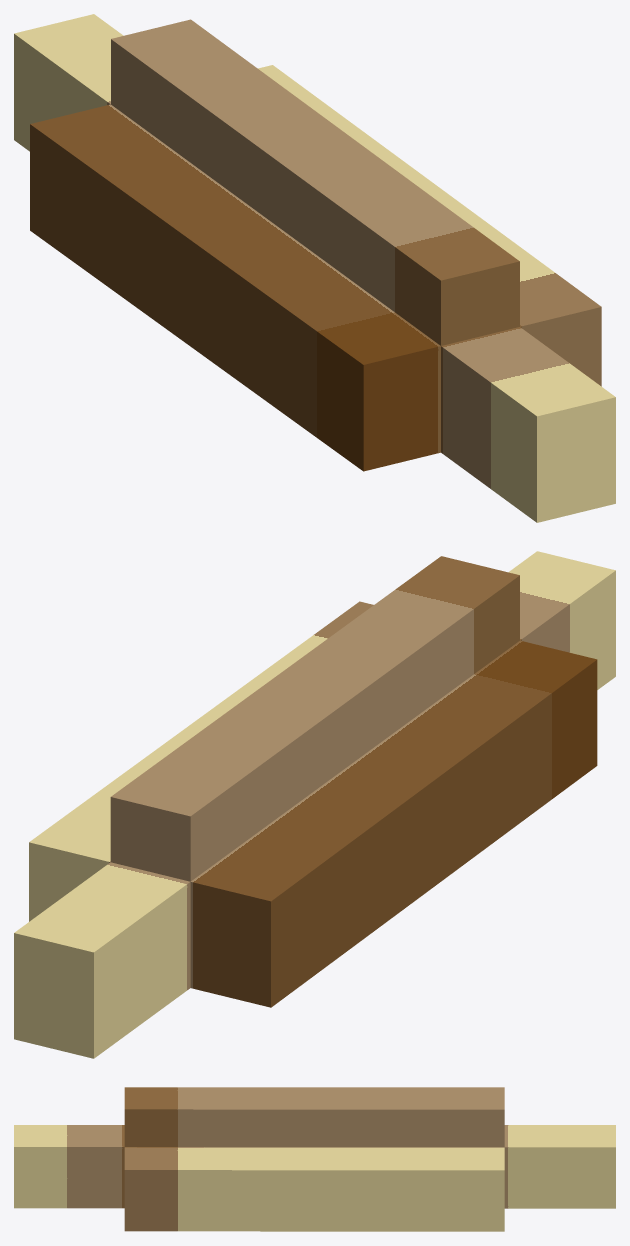
The model's file is kitchen_item_863x08.gltf.
3 views of the same model, one above another, from view 1: azimuth 30°, elevation 25°; view 2: azimuth 150°, elevation 25°; view 3: azimuth 270°, elevation 25° (orthographic). The views are drawn at different scales.
Parts seen in each view (by area): view 1: kitchen_item_863x08; view 2: kitchen_item_863x08; view 3: kitchen_item_863x08.
Boxes of the visible parts, x1,y1,x2,y2 form: kitchen_item_863x08: (14,14,615,522); kitchen_item_863x08: (14,551,615,1058); kitchen_item_863x08: (14,1087,615,1231).
Bounding box in the file's own units: 0.2395 × 0.1622 × 0.8943.
Materials: 1 (1 with a texture image).
